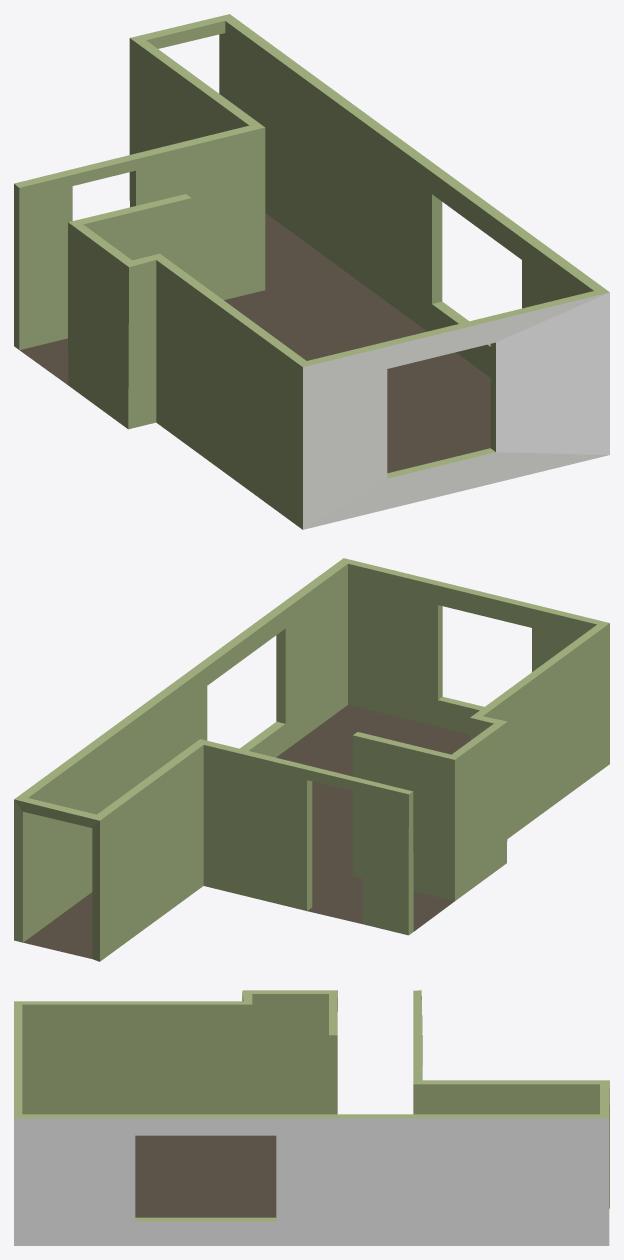
Rendered from EscenaSala.fbx.
3 renders of one model, top to bottom at view 1: azimuth 30°, elevation 25°; view 2: azimuth 150°, elevation 25°; view 3: azimuth 270°, elevation 25°, orthographic. The views are drawn at different scales.
Parts seen in each view (by area): view 1: Cube.008; view 2: Cube.008; view 3: Cube.008.
Part boxes in pixels (<box>): Cube.008: <box>14,14,609,529</box>; Cube.008: <box>14,558,609,961</box>; Cube.008: <box>14,990,609,1245</box>.
Bounding box in the file's own units: 6.44 × 2.99 × 12.65.
